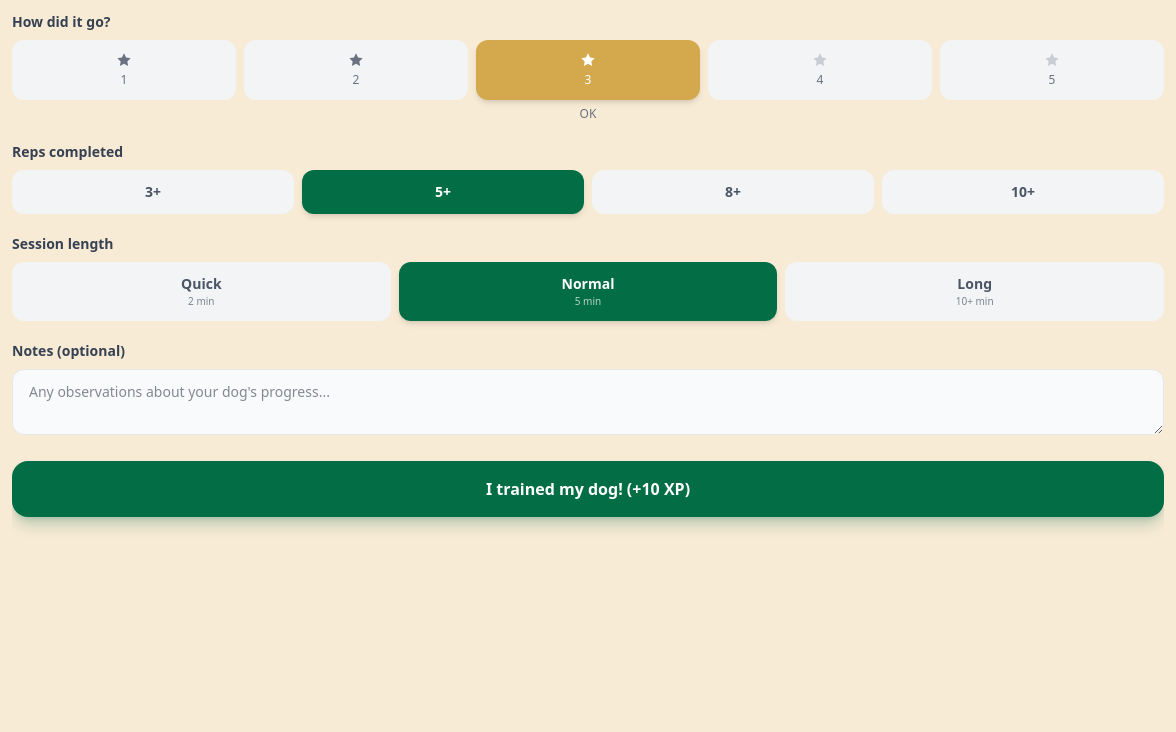
Scenario: SessionLogForm › defaults to rating 3 ('OK') and updates the label when a rating is picked
Expected: the text "OK" is shown, [580,105,596,122]
Click the button "5" at (1052, 70), box [940,40,1164,100]
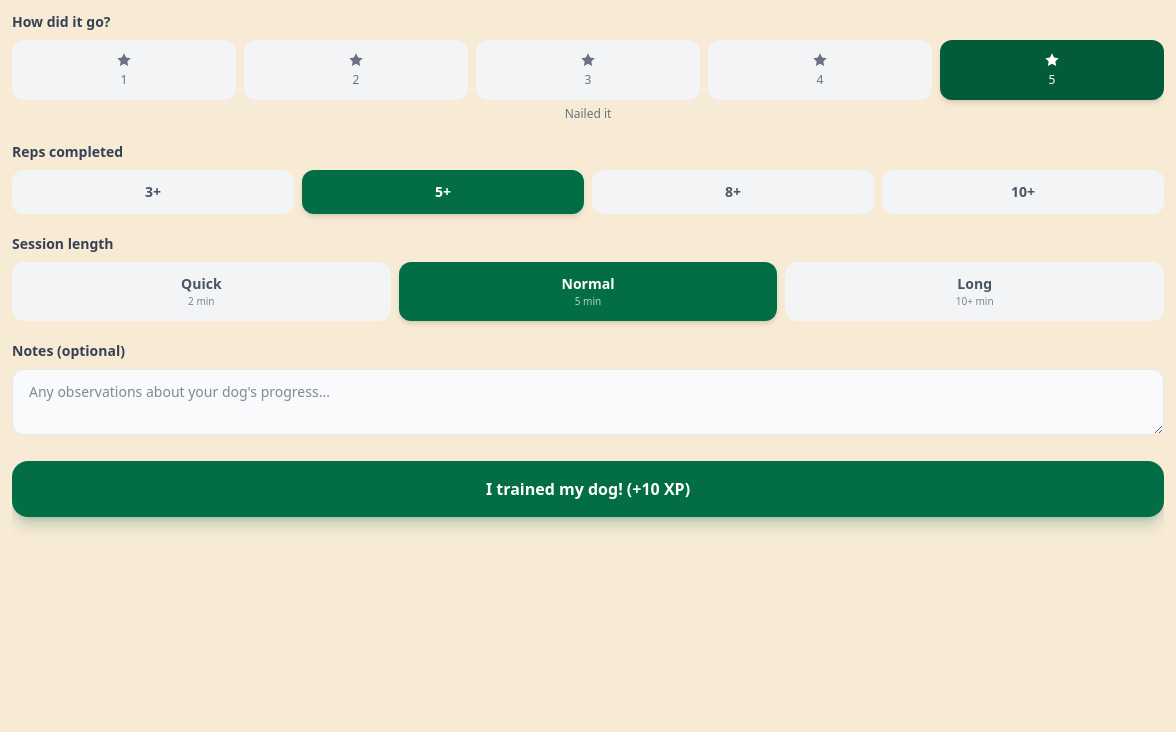
Expected: the text "Nailed it" is shown, [565,105,611,122]
